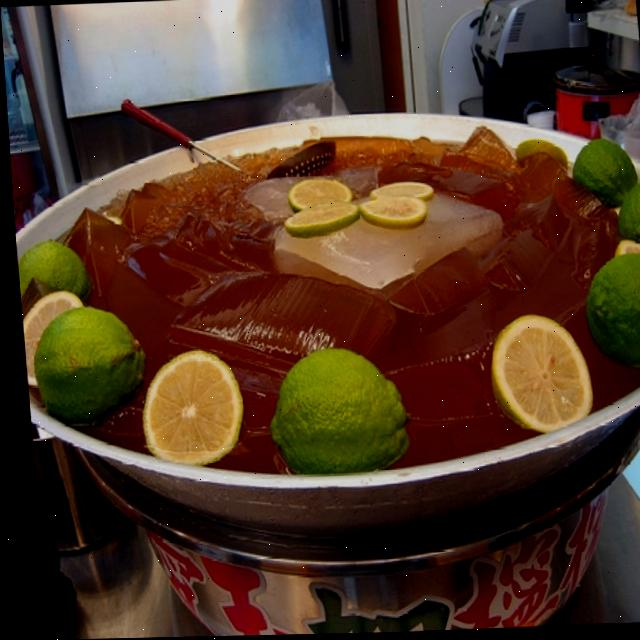蛋糕甜品: (18, 32, 640, 535)
